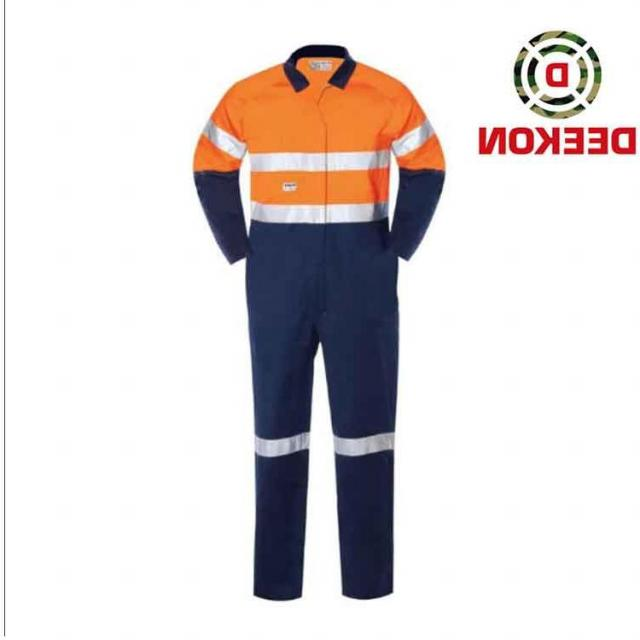Reflective-Jacket: (191, 54, 450, 234)
